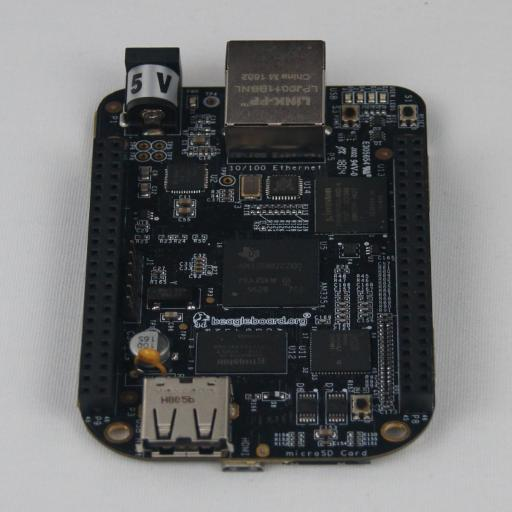Beaglebone Black: (78, 40, 435, 472)
